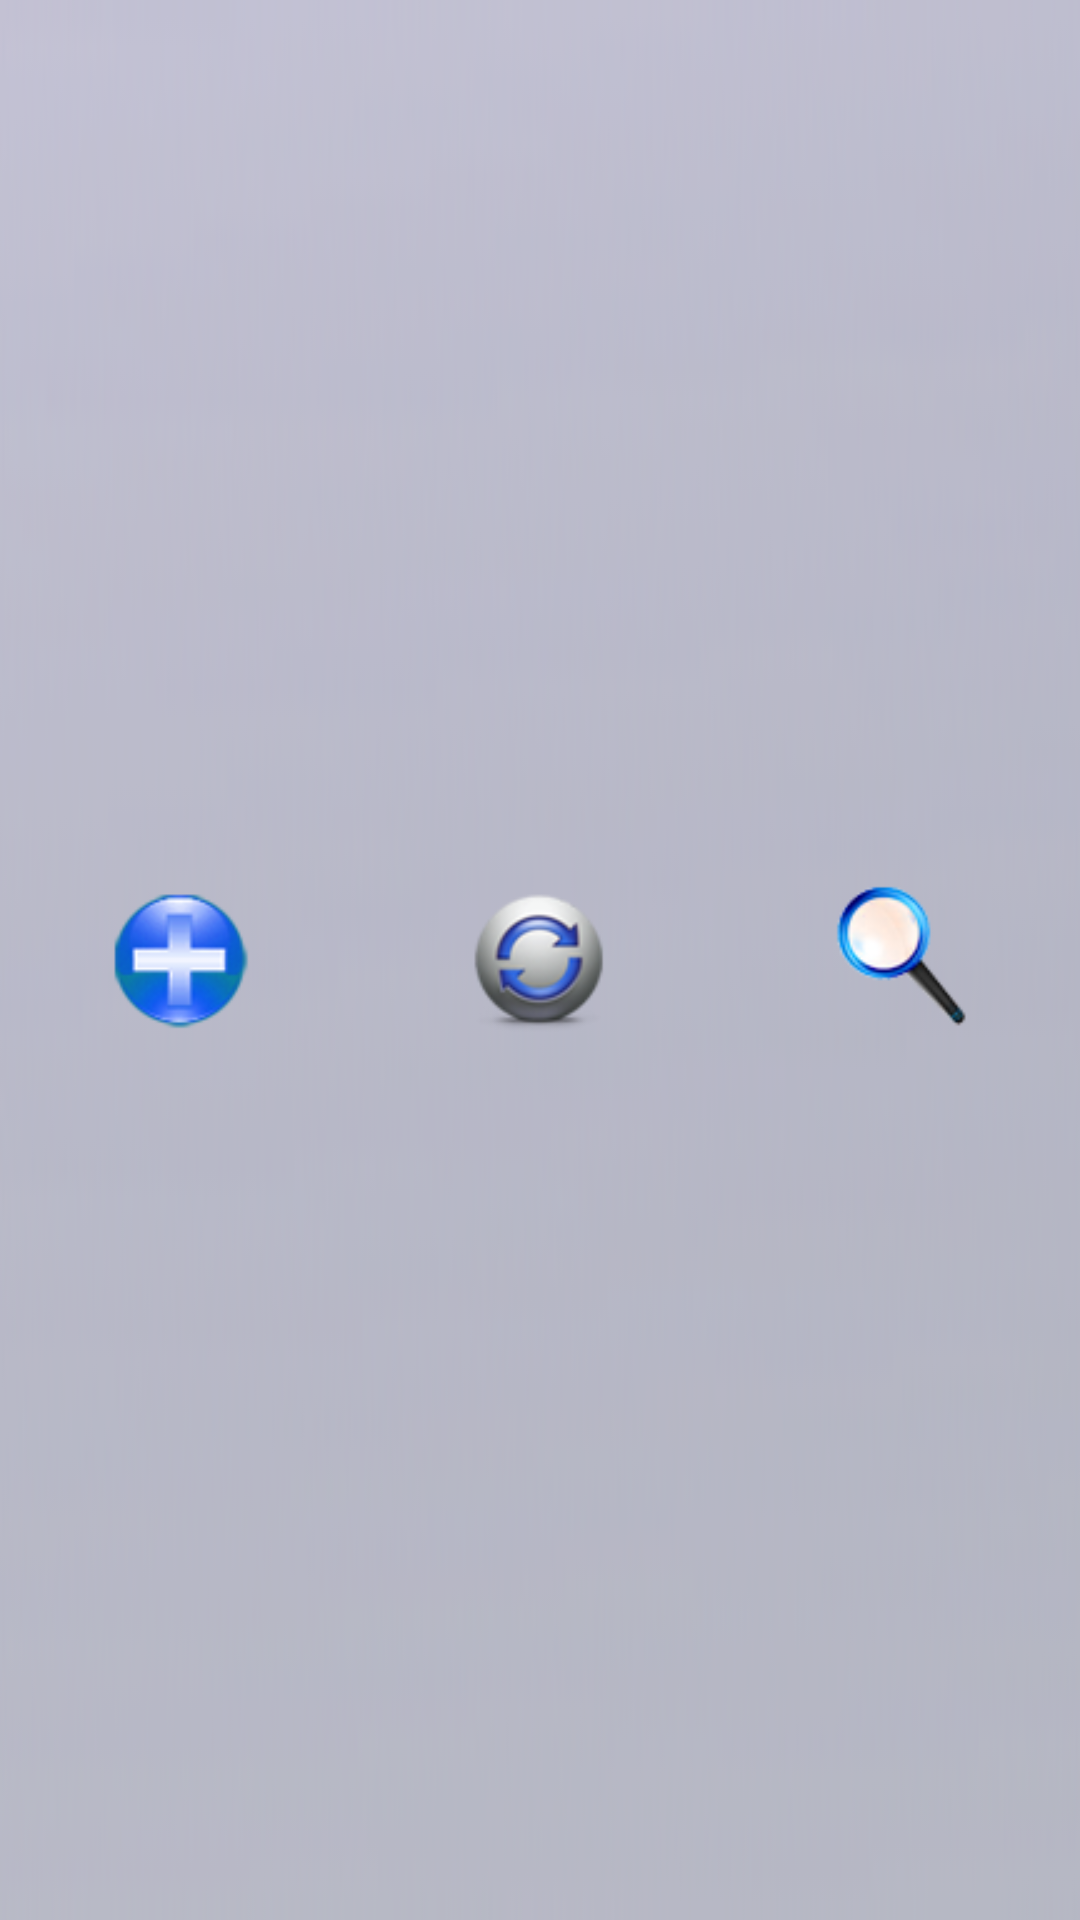

Named icons in this screenshot (1080×1920) and their centers, (x,y):
add focus: (181,961)
refresh focus: (539,960)
search focus: (901,956)
